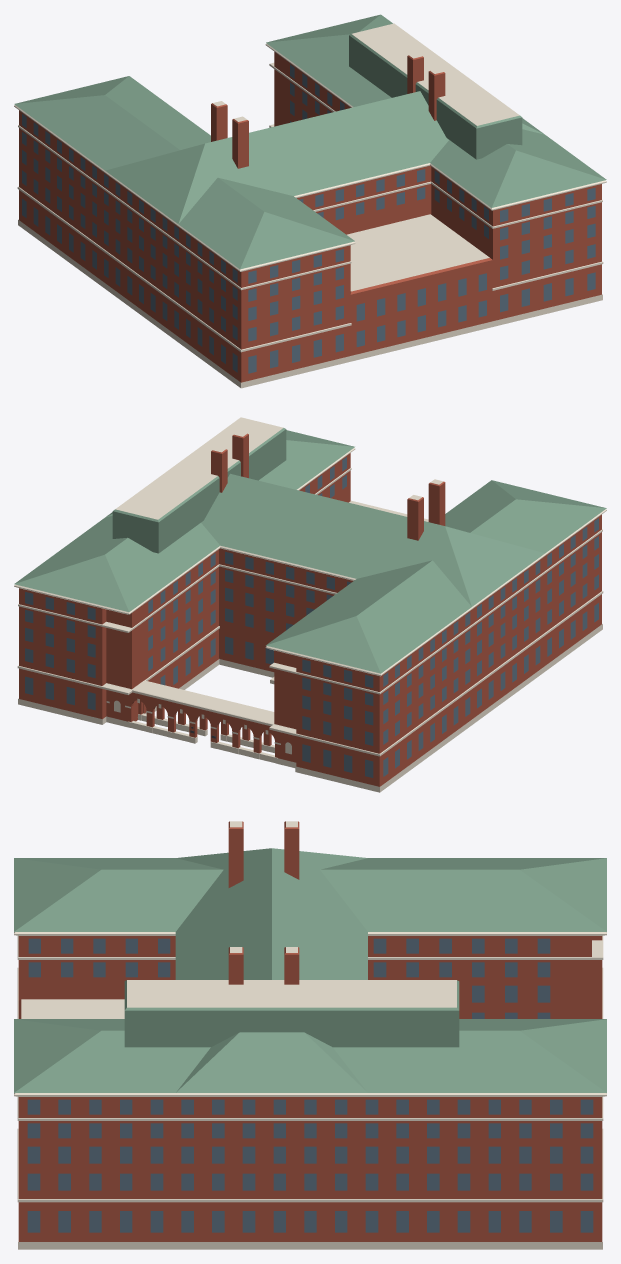
File: nyc-nyu-law-vanderbilt-hall.glb
3 renders of one model, top to bottom at view 1: azimuth 30°, elevation 25°; view 2: azimuth 150°, elevation 25°; view 3: azimuth 270°, elevation 25°, orthographic. The views are drawn at different scales.
Visible parts, largest first — view 1: Vanderbilt Hall; view 2: Vanderbilt Hall; view 3: Vanderbilt Hall.
Part boxes in pixels (bbox=[...]): Vanderbilt Hall: bbox=[14, 14, 606, 388]; Vanderbilt Hall: bbox=[14, 417, 606, 792]; Vanderbilt Hall: bbox=[14, 821, 606, 1249].
Bounding box in the file's own units: 59.8 × 29.3 × 63.8.
